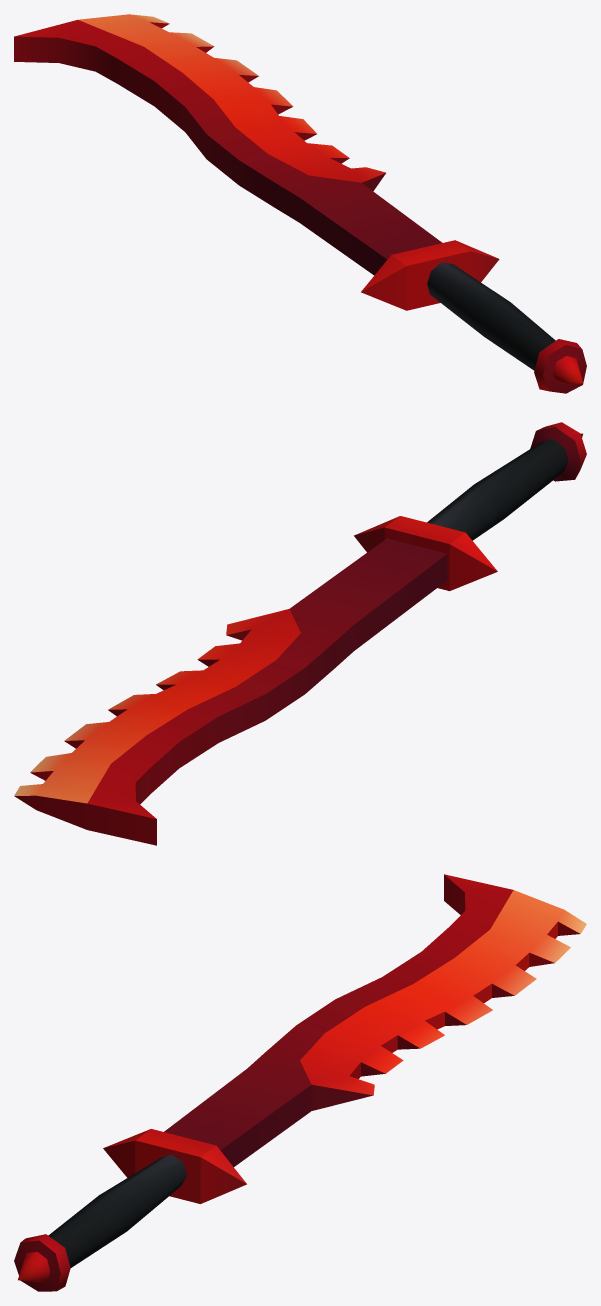
The model's file is sword-red.fbx.
3 views of the same model, one above another, from view 1: azimuth 30°, elevation 25°; view 2: azimuth 150°, elevation 25°; view 3: azimuth 330°, elevation 25° (orthographic). The views are drawn at different scales.
Visible parts, largest first — view 1: sword2h19_red; view 2: sword2h19_red; view 3: sword2h19_red.
Boxes of the visible parts, x1=… form: sword2h19_red: x1=14, y1=14, x2=586, y2=393; sword2h19_red: x1=14, y1=422, x2=586, y2=845; sword2h19_red: x1=14, y1=874, x2=586, y2=1291.
Size of the model in its own units: 14.16 by 4.51 by 76.63.
